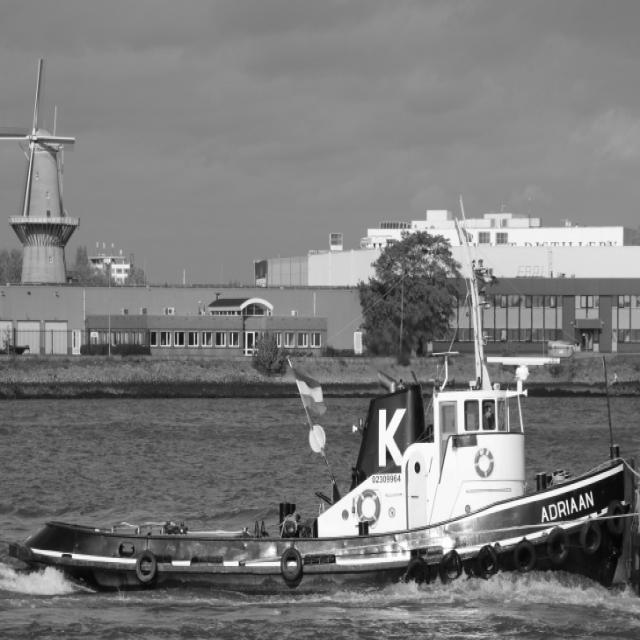tugboat: (7, 362, 640, 611)
